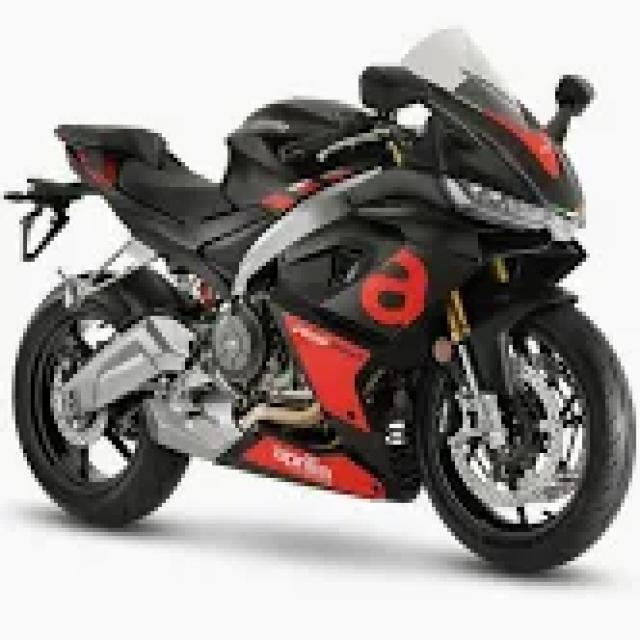motorcycle: (0, 24, 636, 574)
